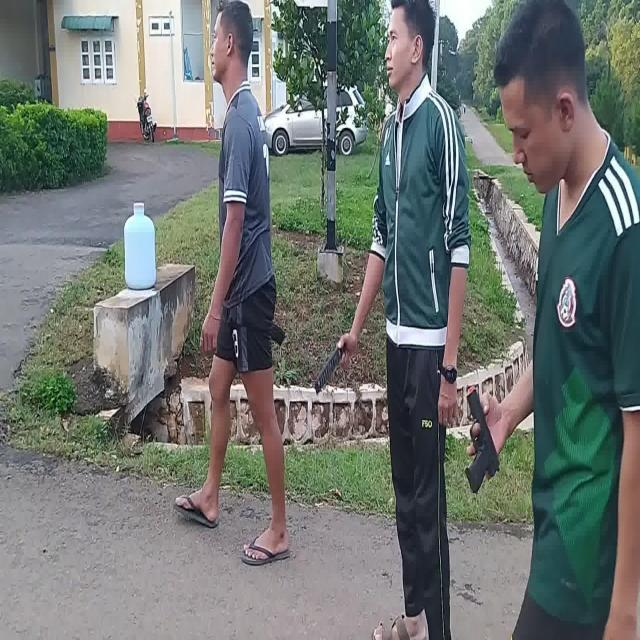gun: (465, 391, 499, 493), (274, 324, 284, 346)
